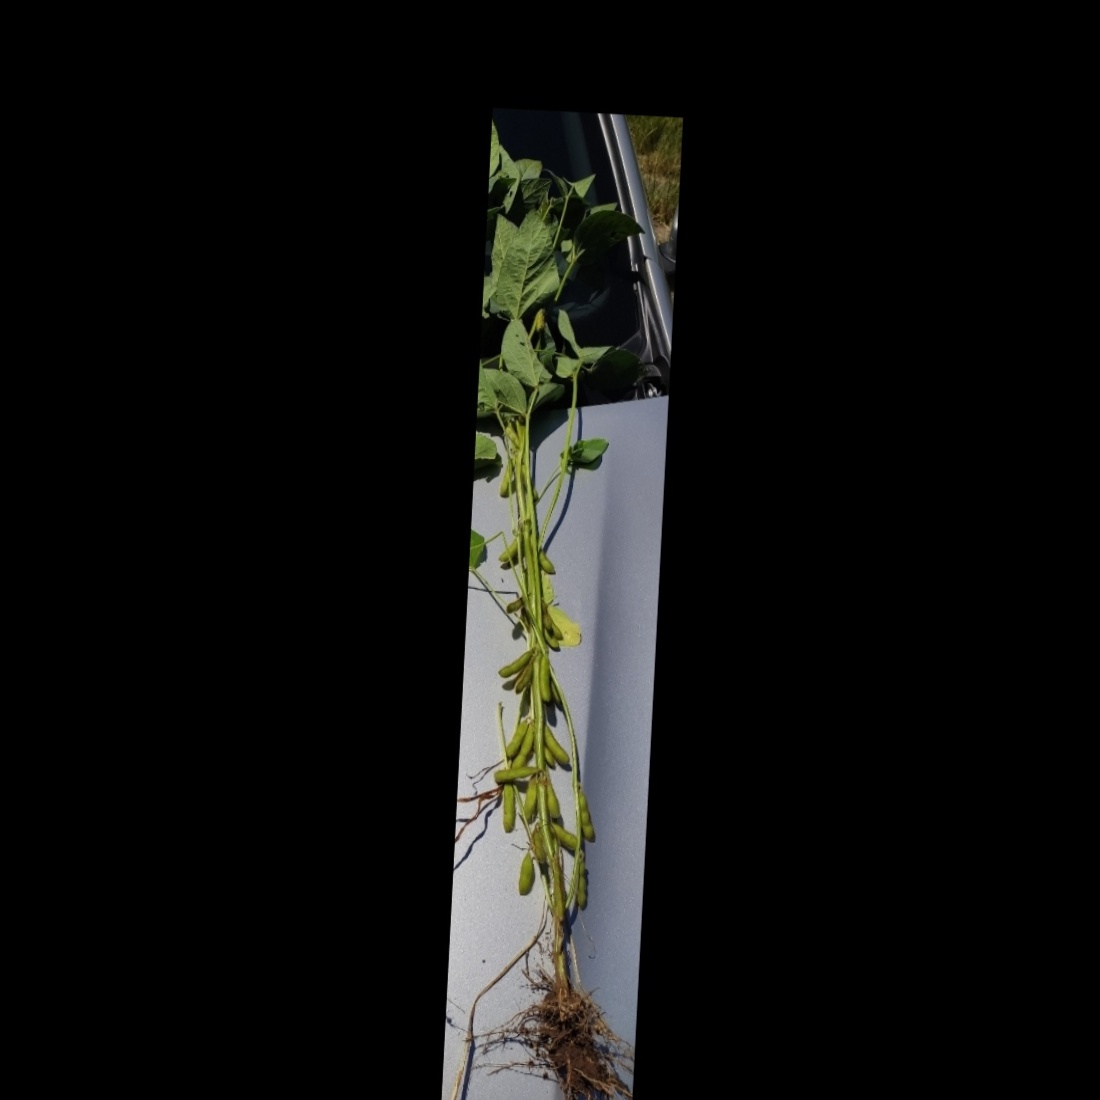pod: (540, 719, 573, 771), (576, 783, 598, 849), (504, 712, 534, 760), (499, 776, 520, 838), (537, 647, 555, 708), (486, 765, 545, 783), (496, 648, 531, 678), (516, 846, 535, 901), (543, 775, 565, 821), (574, 854, 590, 916)
soy: (441, 132, 678, 1100)
